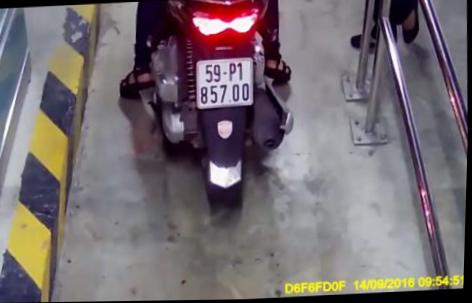LP: (195, 56, 255, 110)
